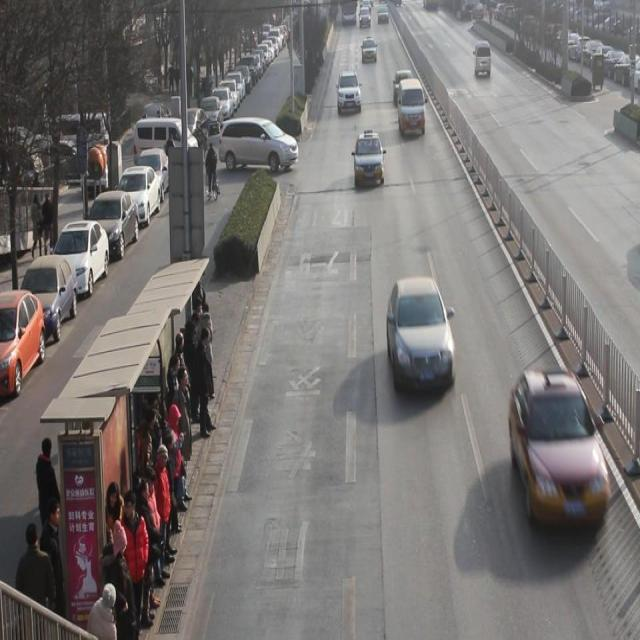car: (508, 368, 610, 534), (386, 276, 457, 398), (354, 133, 385, 189), (337, 71, 363, 116), (393, 74, 416, 113)
truck: (398, 78, 425, 138), (474, 40, 492, 79)
